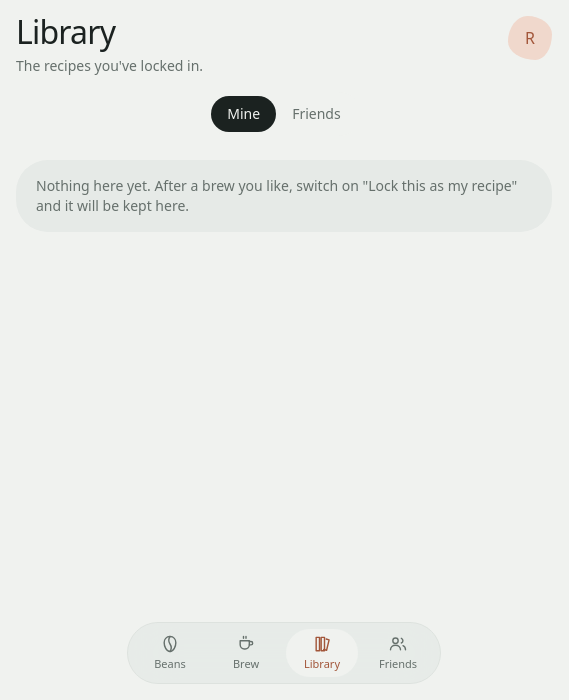
Test: Library: Friends › lists what your friends locked, with their numbers in your grinder's units
Click the radio button labelled "Friends" at point(316, 114), box [276, 96, 357, 132]
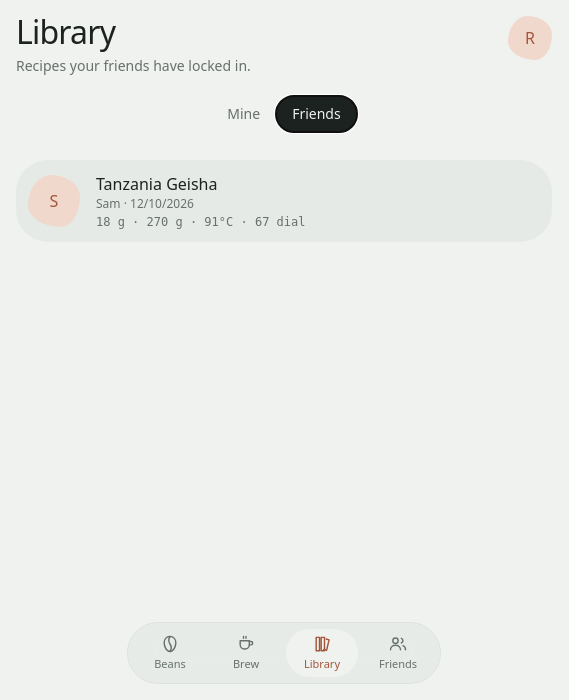
Result: the list item that starts with "Tanzania Geisha" is shown at [16, 160, 552, 242]
Result: the list item that starts with "Tanzania Geisha" shows "Sam" at [16, 160, 552, 242]
Result: the list item that starts with "Tanzania Geisha" shows "18 g · 270 g · 91°C" at [16, 160, 552, 242]
